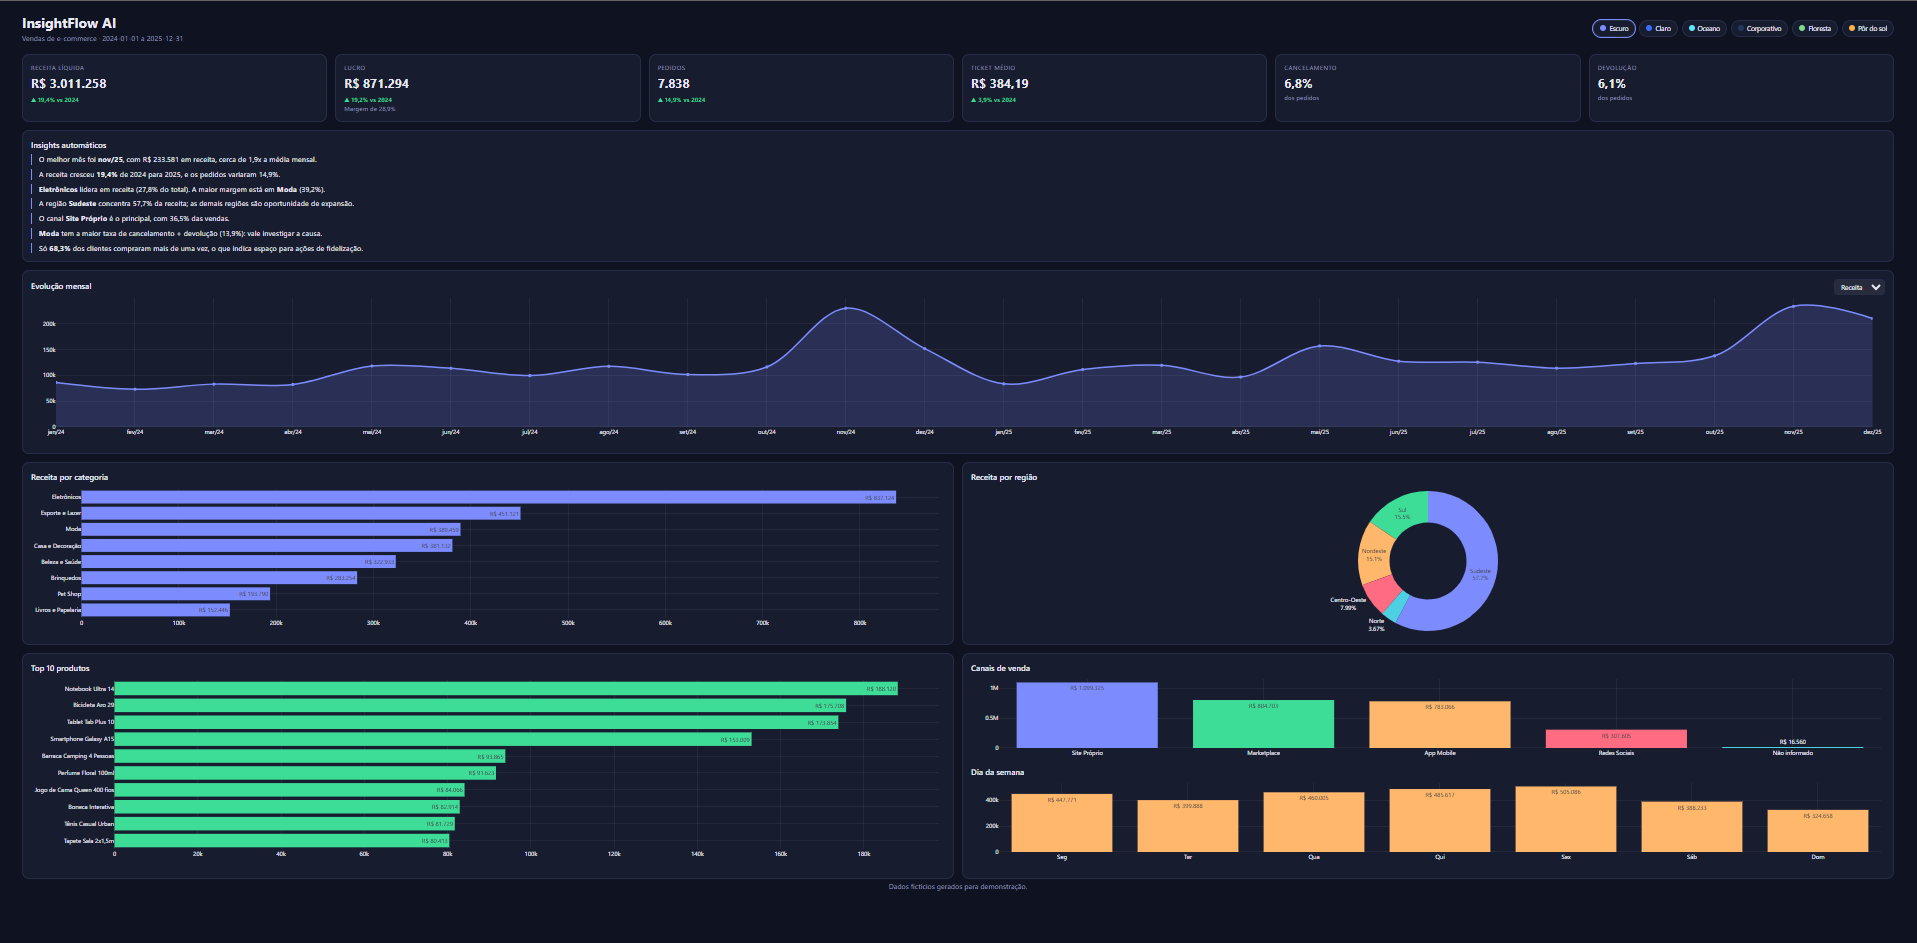

What the dashboard file says about the page in this screenshot:
{"tool":"powerbi","page":{"name":"Página 1","canvas":[1920,1080],"ordinal":0},"visuals":[{"type":"cardVisual","fields":{"Data":["Medidas.Receita Liquida"]},"box":[0,115,274.4,202.8],"z":0},{"type":"cardVisual","fields":{"Data":["Medidas.Pedidos"]},"box":[599.3,120,168,192],"z":1000},{"type":"cardVisual","fields":{"Data":["Medidas.Margem %"]},"box":[1079.8,120,288,192],"z":2000},{"type":"cardVisual","fields":{"Data":["Medidas.Lucro"]},"box":[274.6,117.5,324.5,200.4],"z":3000},{"type":"cardVisual","fields":{"Data":["Medidas.Ticket Medio"]},"box":[767.5,120,312,192],"z":4000},{"type":"slicer","title":"Filtro ","fields":{"Values":["Calendario.Ano"]},"box":[1368,120,552,192],"z":5000},{"type":"clusteredColumnChart","fields":{"Y":["Medidas.Crescimento %"]},"box":[1032,840,336,240],"z":6000},{"type":"clusteredColumnChart","fields":{"Y":["Medidas.Receita Ano Anterior"]},"box":[672,840,360,240],"z":7000},{"type":"lineChart","title":"Evolução Mensal","fields":{"Category":["Calendario.AnoMes"],"Y":["Medidas.Receita Liquida"]},"box":[0,312,1368,264],"z":8000},{"type":"barChart","title":"Receita por Categoria","fields":{"Category":["vendas_clean.category"],"Y":["Medidas.Receita Liquida"]},"box":[0,576,672,264],"z":9000},{"type":"donutChart","title":"Receita por Região","fields":{"Category":["vendas_clean.region"],"Y":["Medidas.Receita Liquida"]},"box":[672,576,696,264],"z":10000},{"type":"barChart","title":"Top 10 Produtos","fields":{"Category":["vendas_clean.product_name"],"Y":["Medidas.Receita Liquida"]},"box":[0,840,672,240],"z":11000},{"type":"columnChart","title":"Canais de Venda","fields":{"Category":["vendas_clean.channel"],"Y":["Medidas.Receita Liquida"]},"box":[1368,312,552,384],"z":12000},{"type":"columnChart","title":"Dia da Semana","fields":{"Category":["Calendario.DiaSemana"],"Y":["Medidas.Receita Liquida"]},"box":[1368,696,552,384],"z":13000},{"type":"textbox","box":[0,0,1920,120],"z":14000}]}

Visuals, with their boxes on the page's 1920x1080 design canvas (x1, y1, x2, y2). These are canvas units, not pixel positions in the 1917x943 screenshot, which may show the page scaled, cropped or inside an application window:
cardVisual - Medidas.Receita Liquida: pyautogui.locateOnScreen(0, 115, 274, 318)
cardVisual - Medidas.Pedidos: pyautogui.locateOnScreen(599, 120, 767, 312)
cardVisual - Medidas.Margem %: pyautogui.locateOnScreen(1080, 120, 1368, 312)
cardVisual - Medidas.Lucro: pyautogui.locateOnScreen(275, 118, 599, 318)
cardVisual - Medidas.Ticket Medio: pyautogui.locateOnScreen(768, 120, 1080, 312)
"Filtro " slicer: pyautogui.locateOnScreen(1368, 120, 1920, 312)
clusteredColumnChart - Medidas.Crescimento %: pyautogui.locateOnScreen(1032, 840, 1368, 1080)
clusteredColumnChart - Medidas.Receita Ano Anterior: pyautogui.locateOnScreen(672, 840, 1032, 1080)
"Evolução Mensal" lineChart: pyautogui.locateOnScreen(0, 312, 1368, 576)
"Receita por Categoria" barChart: pyautogui.locateOnScreen(0, 576, 672, 840)
"Receita por Região" donutChart: pyautogui.locateOnScreen(672, 576, 1368, 840)
"Top 10 Produtos" barChart: pyautogui.locateOnScreen(0, 840, 672, 1080)
"Canais de Venda" columnChart: pyautogui.locateOnScreen(1368, 312, 1920, 696)
"Dia da Semana" columnChart: pyautogui.locateOnScreen(1368, 696, 1920, 1080)
textbox: pyautogui.locateOnScreen(0, 0, 1920, 120)
